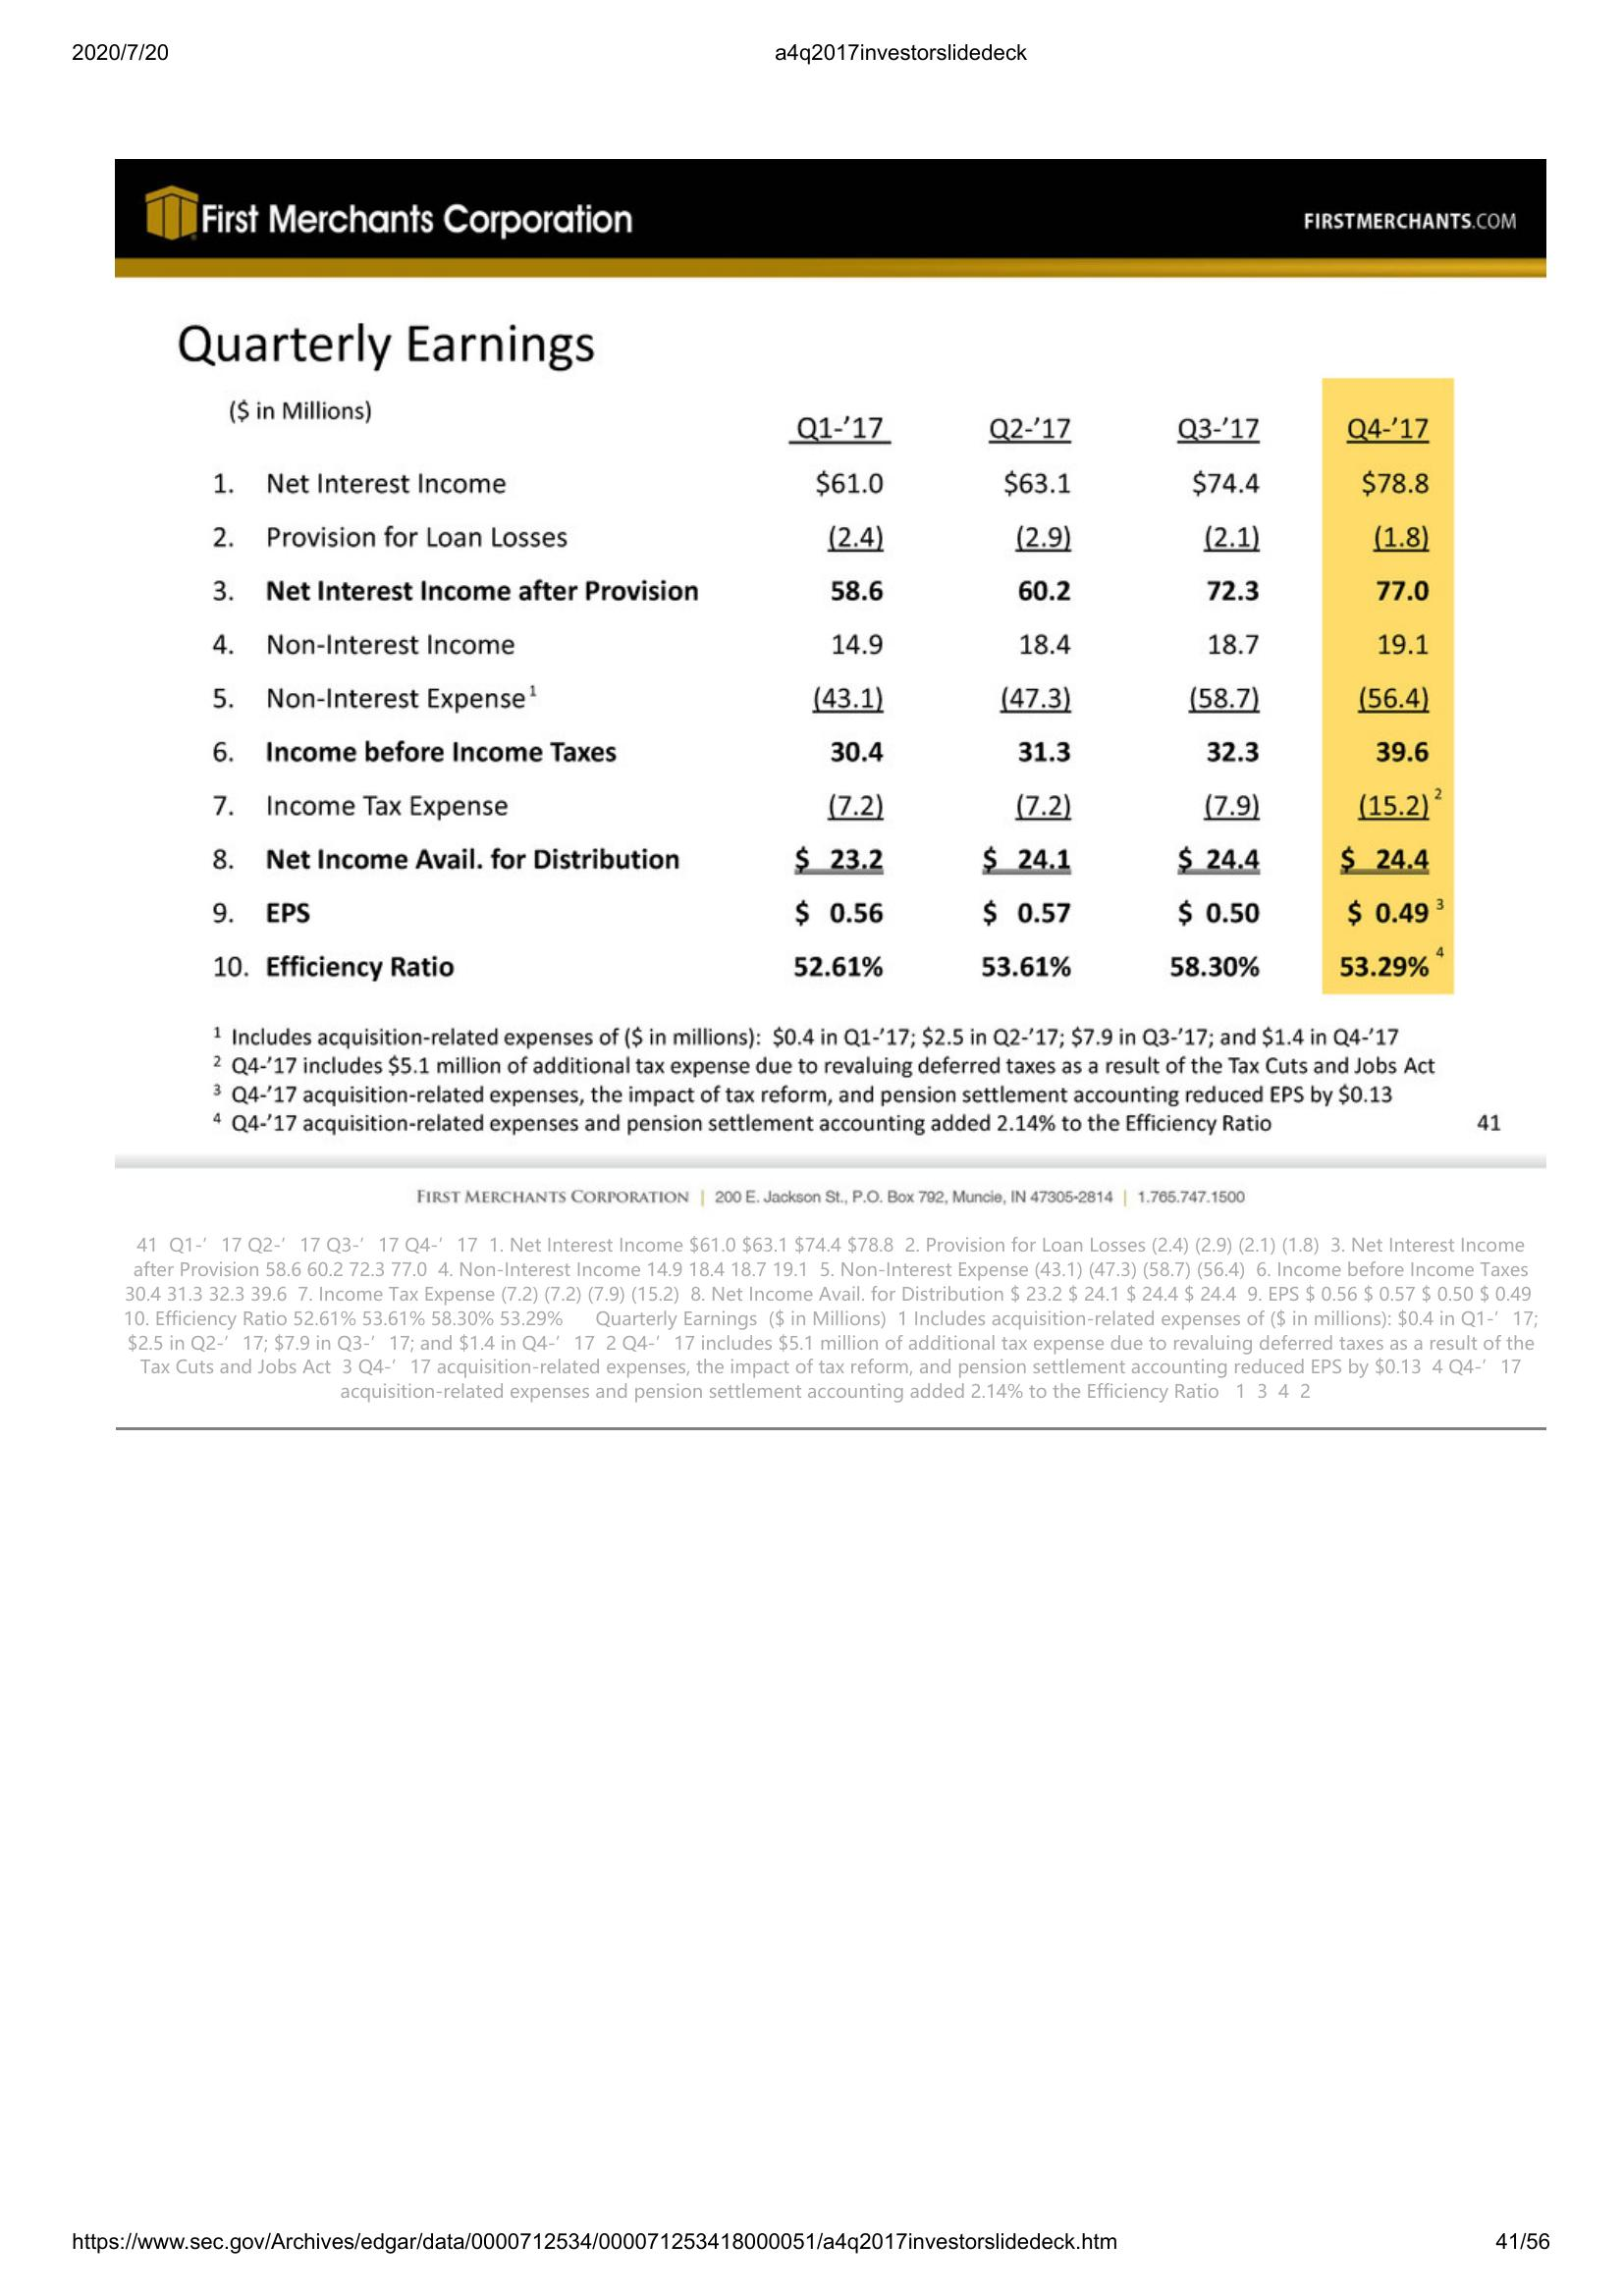table: (169, 319, 1460, 1001)
